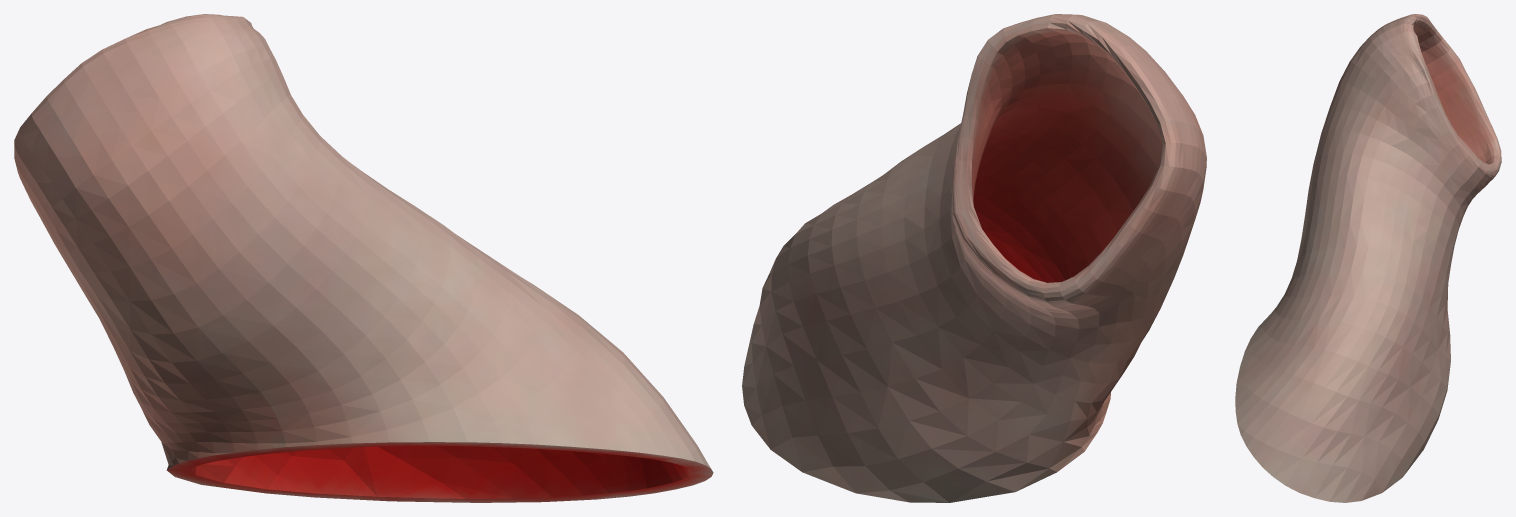
The model's file is stom_pylorus_LP.glb.
3 views of the same model, side by side, from view 1: azimuth 30°, elevation 25°; view 2: azimuth 150°, elevation 25°; view 3: azimuth 270°, elevation 25° (orthographic). The views are drawn at different scales.
Parts seen in each view (by area): view 1: stom_pylorus_LP; view 2: stom_pylorus_LP; view 3: stom_pylorus_LP.
Boxes of the visible parts, bbox=[...] form: stom_pylorus_LP: bbox=[14, 14, 713, 502]; stom_pylorus_LP: bbox=[742, 14, 1206, 502]; stom_pylorus_LP: bbox=[1235, 14, 1501, 502].
Size of the model in its own units: 0.000785 by 0.000736 by 0.000491.
Materials: 1 (1 with a texture image).
